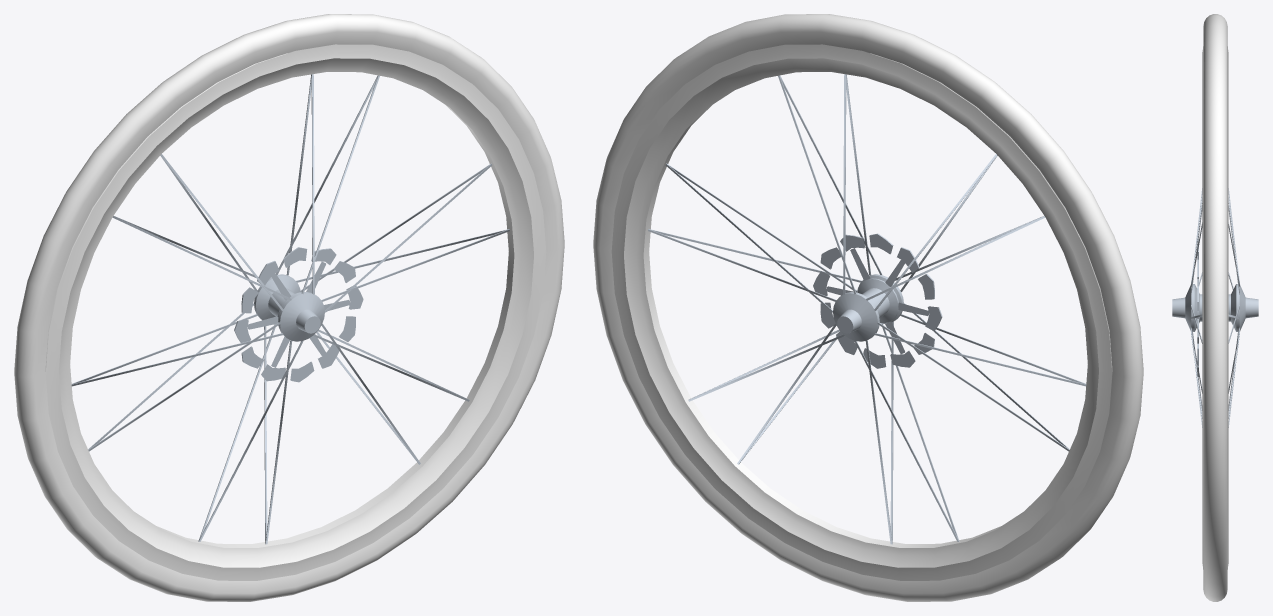
The model's file is wheel_35mm.glb.
3 renders of one model, left to right at view 1: azimuth 30°, elevation 25°; view 2: azimuth 150°, elevation 25°; view 3: azimuth 270°, elevation 25°, orthographic. The views are drawn at different scales.
Parts seen in each view (by area): view 1: wheel_35mm; view 2: wheel_35mm; view 3: wheel_35mm.
Boxes of the visible parts, box(x1,y1,x2,y2) form: wheel_35mm: box(14, 14, 564, 601); wheel_35mm: box(593, 14, 1143, 601); wheel_35mm: box(1172, 14, 1258, 601).
Bounding box in the file's own units: 0.6796 × 0.6796 × 0.1.
